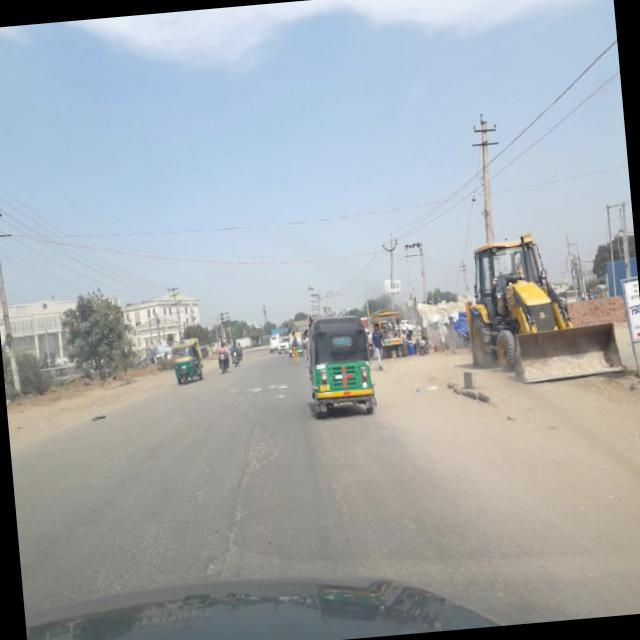pothole: (193, 391, 290, 580)
